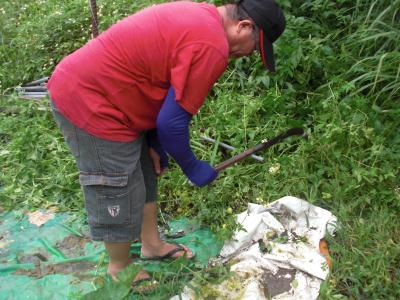plastic_bag: (225, 196, 335, 300), (1, 212, 110, 300)
